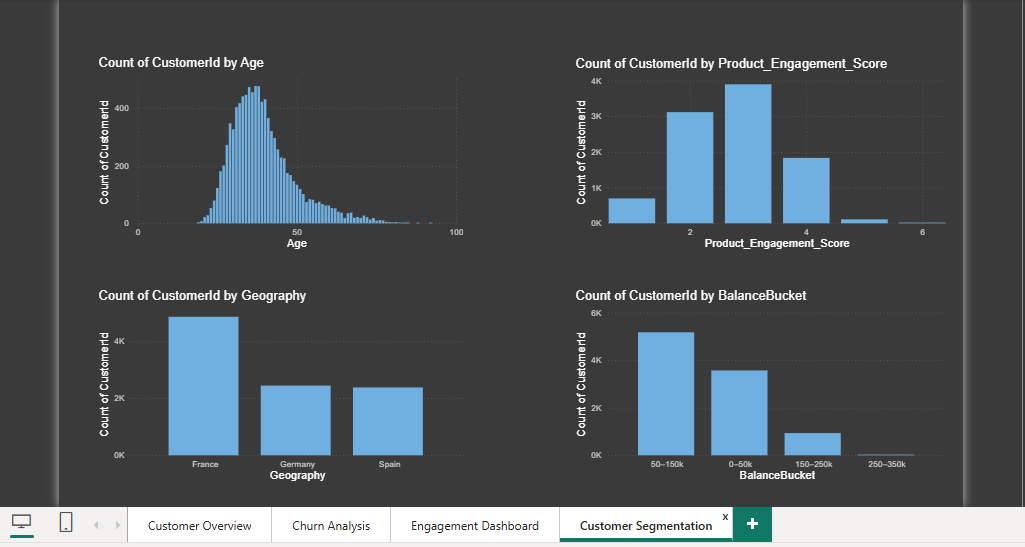

The dashboard page shown, as its layout file describes it:
{"tool":"powerbi","page":{"name":"Customer Segmentation","canvas":[1280,720],"ordinal":3},"visuals":[{"type":"columnChart","fields":{"Category":["Customers_Cleaned.Age"],"Y":["Count(Customers_Cleaned.CustomerId)"]},"box":[51.1,78.9,527.5,280.5],"z":0},{"type":"columnChart","fields":{"Category":["Customers_Cleaned.Geography"],"Y":["Count(Customers_Cleaned.CustomerId)"]},"box":[51.1,409.1,527.5,279.1],"z":1000},{"type":"columnChart","fields":{"Category":["Customers_Cleaned.Product_Engagement_Score"],"Y":["Count(Customers_Cleaned.CustomerId)"]},"box":[727.7,80.4,534.8,279.1],"z":2000},{"type":"columnChart","fields":{"Category":["Customers_Cleaned.BalanceBucket"],"Y":["Count(Customers_Cleaned.CustomerId)"]},"box":[727.7,409.1,534.8,279.1],"z":3000}]}

Visuals, with their boxes on the page's 1280x720 design canvas (x1, y1, x2, y2). These are canvas units, not pixel positions in the 1025x547 screenshot, which may show the page scaled, cropped or inside an application window:
columnChart - Customers_Cleaned.Age x Count(Customers_Cleaned.CustomerId): {"left": 51, "top": 79, "right": 579, "bottom": 359}
columnChart - Customers_Cleaned.Geography x Count(Customers_Cleaned.CustomerId): {"left": 51, "top": 409, "right": 579, "bottom": 688}
columnChart - Customers_Cleaned.Product_Engagement_Score x Count(Customers_Cleaned.CustomerId): {"left": 728, "top": 80, "right": 1262, "bottom": 360}
columnChart - Customers_Cleaned.BalanceBucket x Count(Customers_Cleaned.CustomerId): {"left": 728, "top": 409, "right": 1262, "bottom": 688}
